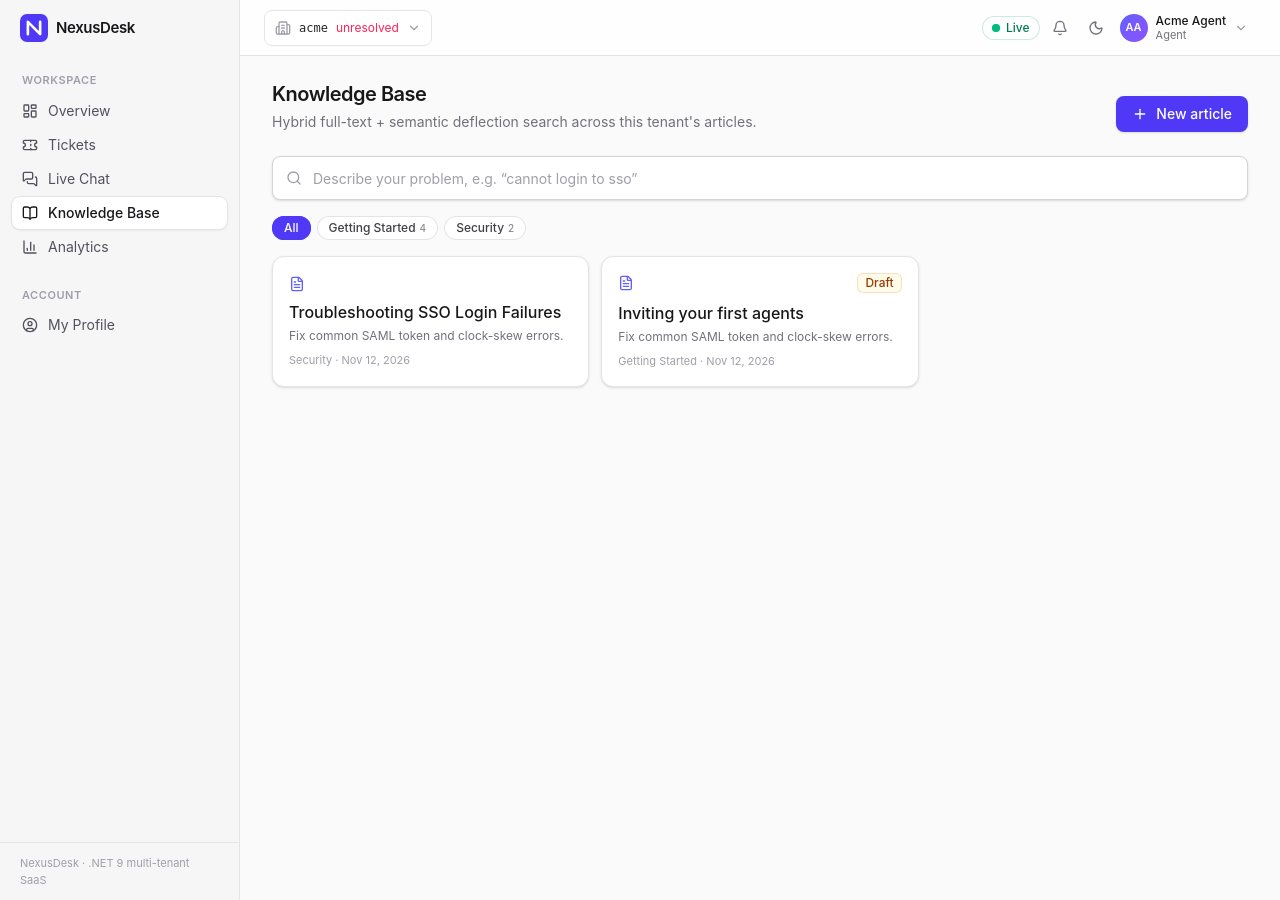
it: Knowledge base › opens the full article reader by slug and renders its markdown
The image size is (1280, 900).
Click the button with test id "kb-article-troubleshooting-sso-login-failures".
click(431, 321)  # box left=272, top=256, right=589, bottom=386
(page scrolled)
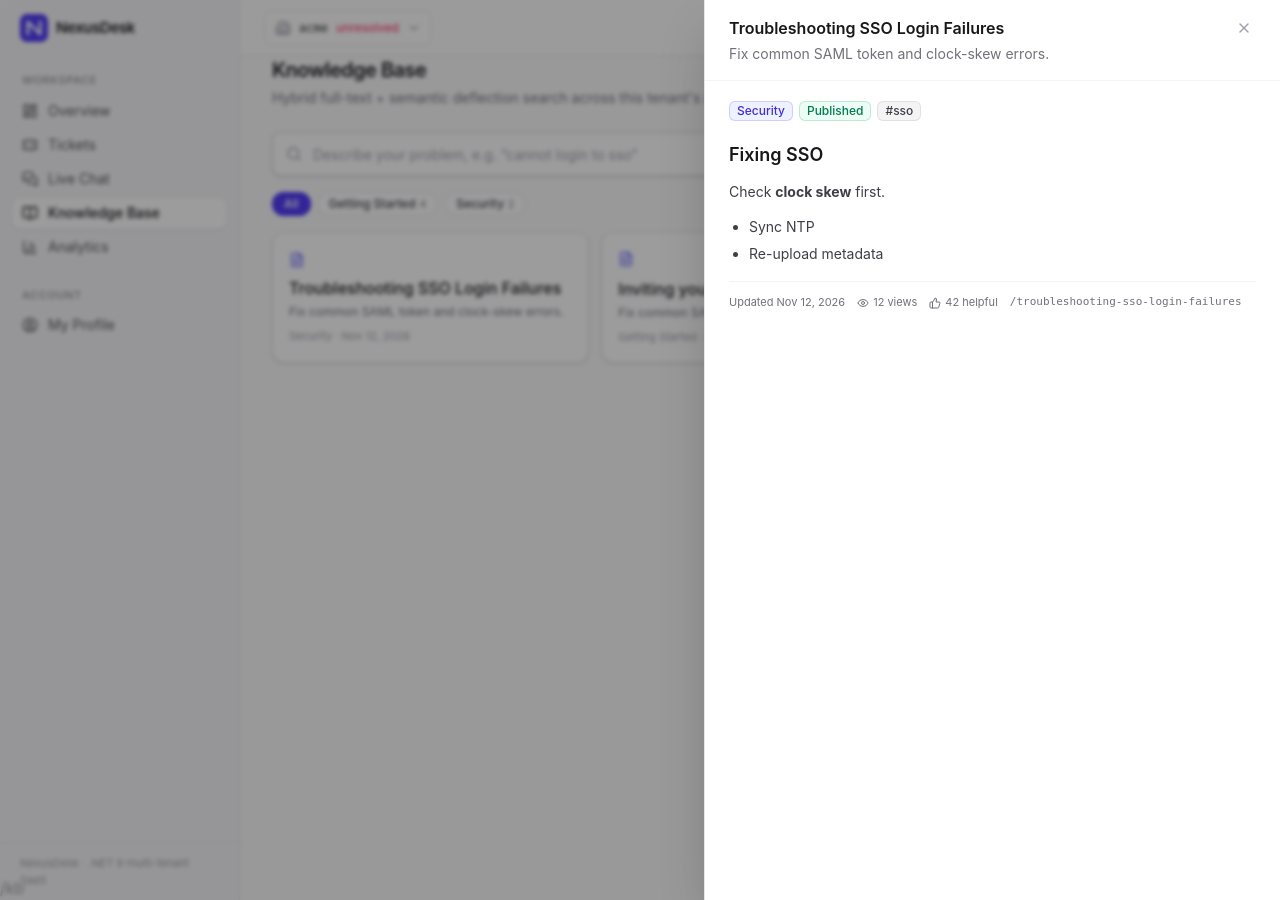
Expected: the text with test id "location" reads "/kb", left=0, top=878, right=24, bottom=898
Expected: the heading "Fixing SSO" is shown, left=729, top=144, right=823, bottom=165
